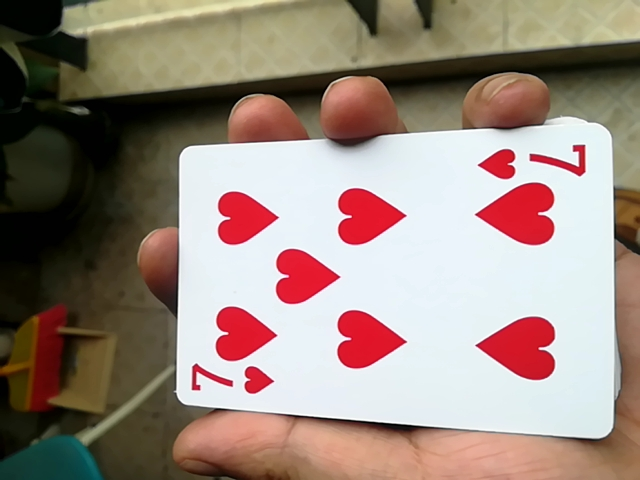hx 7: (165, 127, 613, 440)
